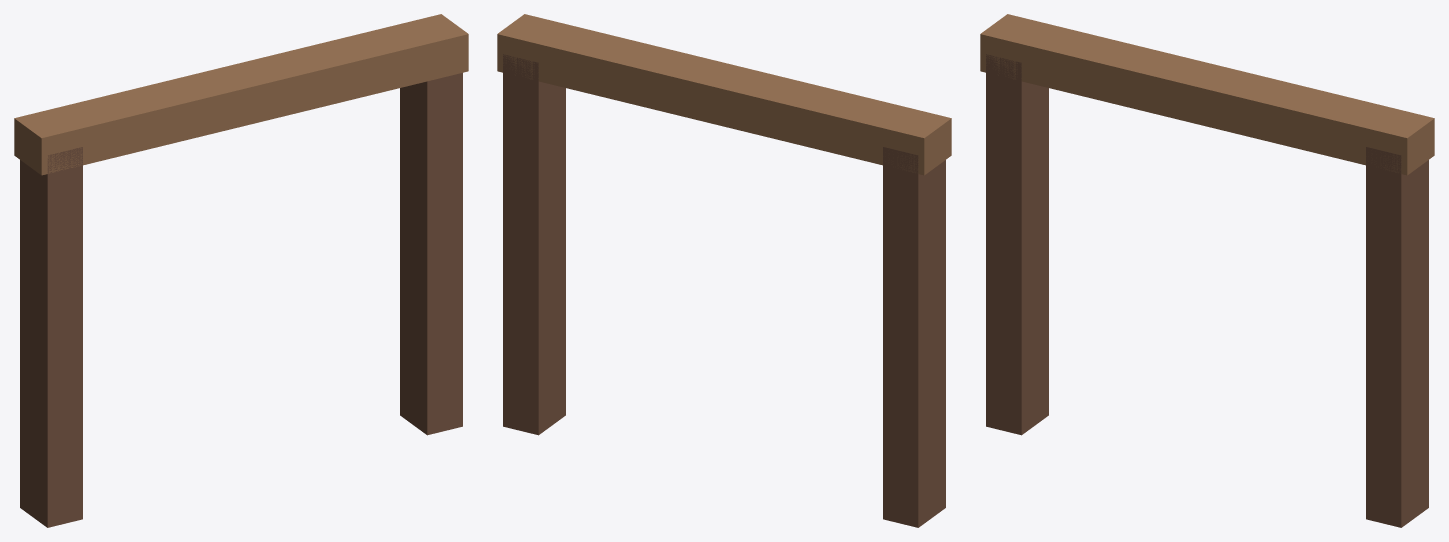
Rendered from cave_mine_support.glb.
The picture shows the model from 3 angles, left to right: view 1: azimuth 30°, elevation 25°; view 2: azimuth 150°, elevation 25°; view 3: azimuth 330°, elevation 25°; orthographic projection.
Visible parts, largest first — view 1: cave_mine_support_Mesh; view 2: cave_mine_support_Mesh; view 3: cave_mine_support_Mesh.
Part boxes in pixels (left/top/right/bottom): cave_mine_support_Mesh: left=14, top=14, right=468, bottom=527; cave_mine_support_Mesh: left=497, top=14, right=951, bottom=527; cave_mine_support_Mesh: left=980, top=14, right=1434, bottom=527.
Size of the model in its own units: 3.6 by 3.15 by 0.4.
